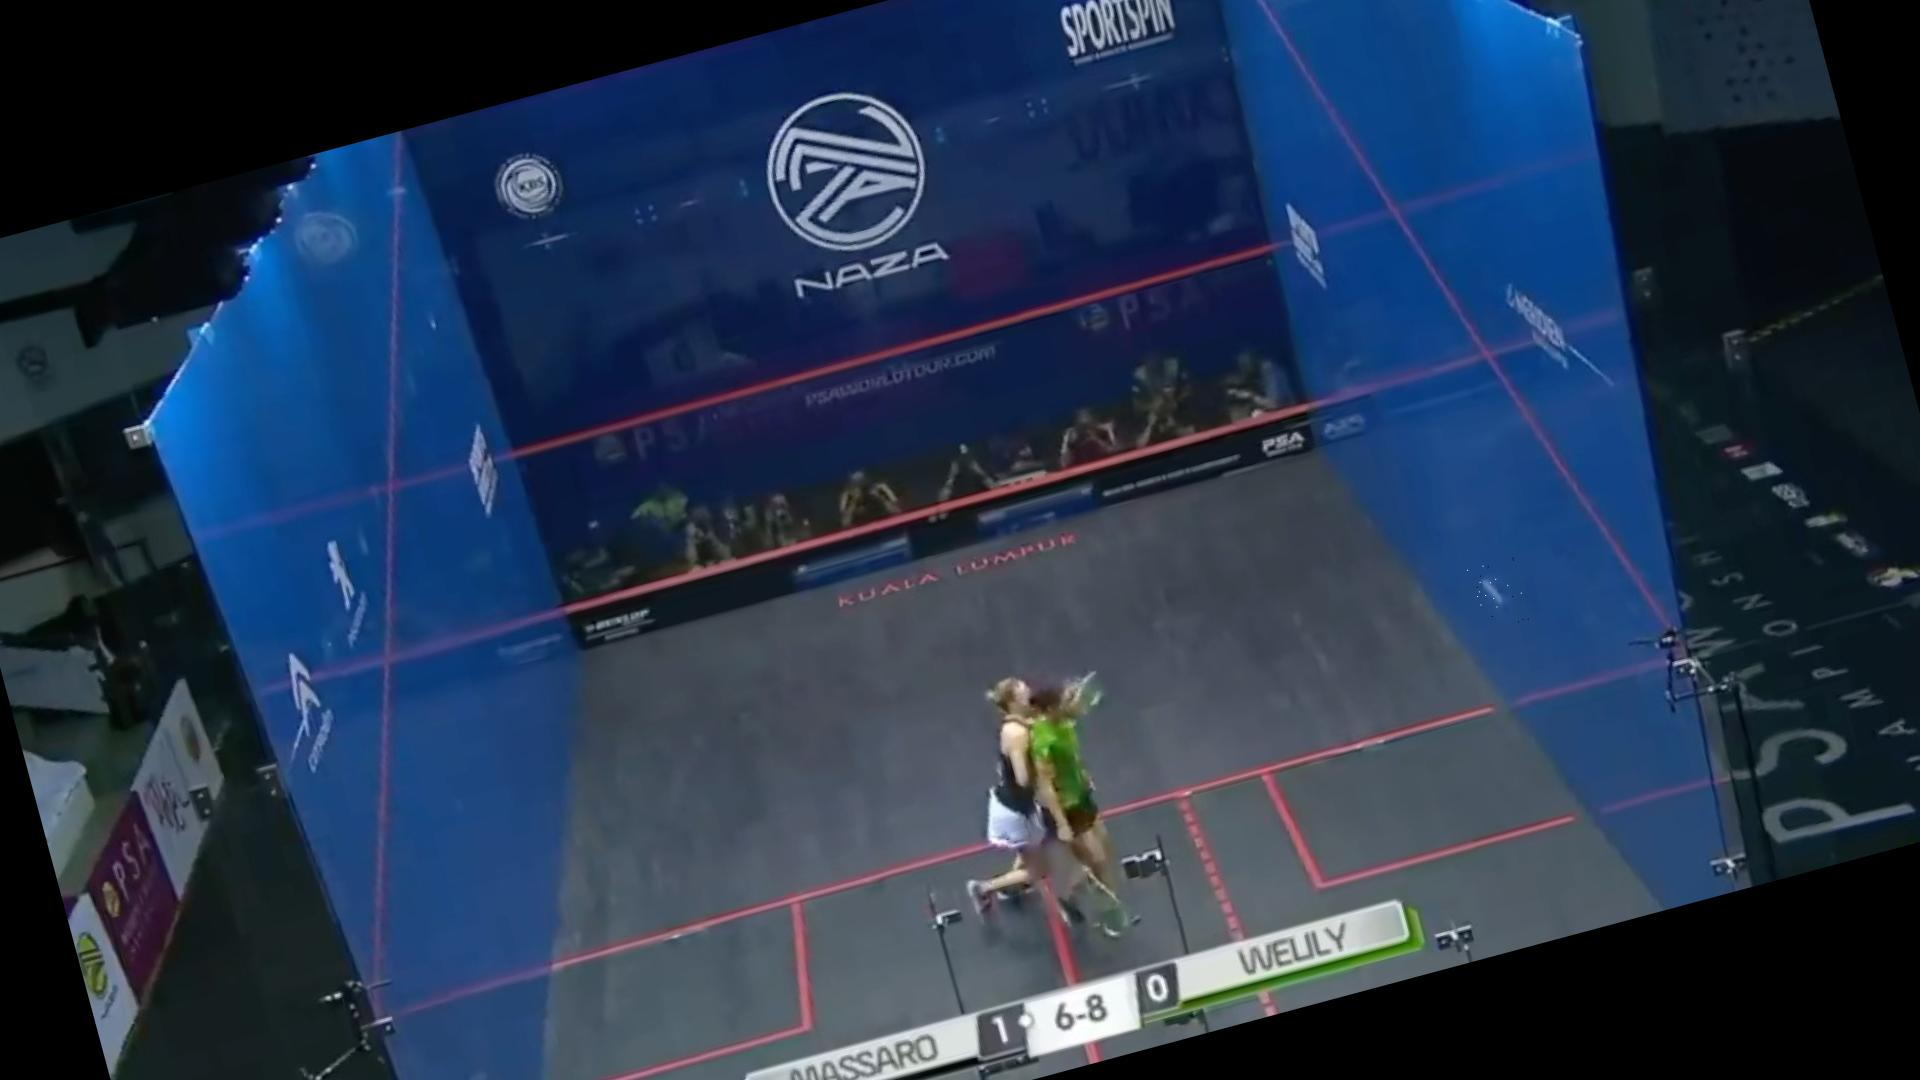Squash-Ball: (1462, 556, 1530, 633)
